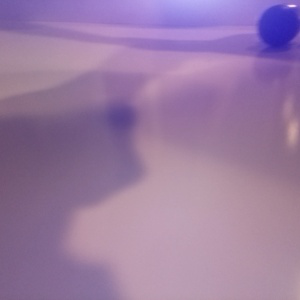dead_ball: (258, 4, 299, 47)
